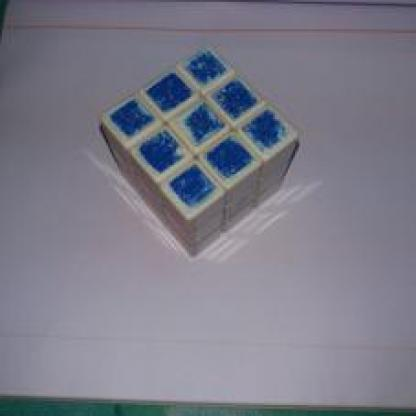cube: (96, 49, 304, 253)
